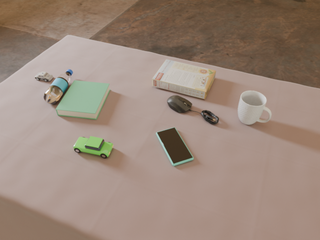book: (56, 81, 110, 120)
bottle: (44, 69, 73, 104)
box: (153, 60, 216, 99)
cup: (238, 91, 271, 125)
mouse: (167, 95, 192, 113)
phone: (156, 128, 193, 166)
toy_car: (73, 136, 113, 158), (35, 72, 53, 81)
